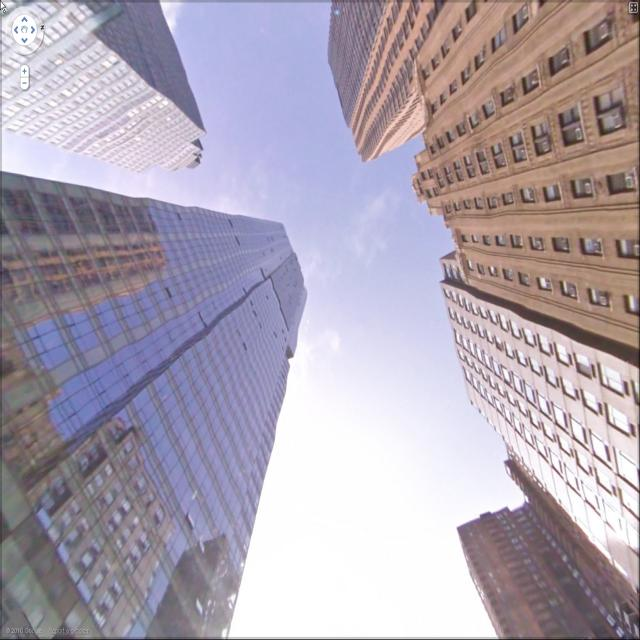b_1: (1, 203, 329, 566), (312, 1, 640, 336), (430, 257, 634, 560), (439, 450, 640, 640), (1, 1, 214, 166)
